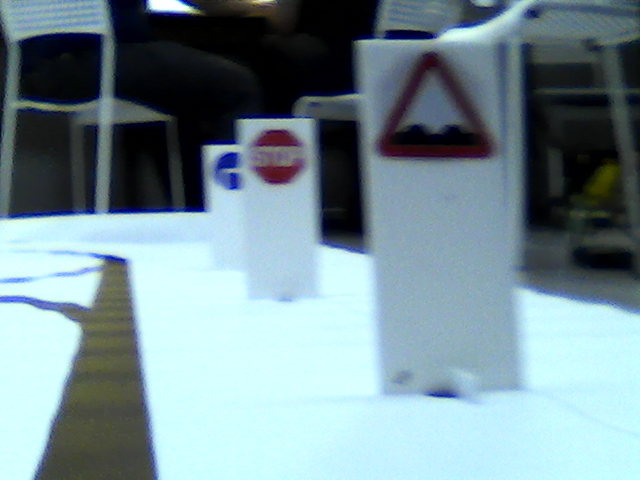Nerov: (376, 49, 499, 163)
Stop: (249, 127, 311, 187)
